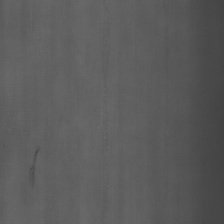water_spot: (24, 132, 45, 189)
